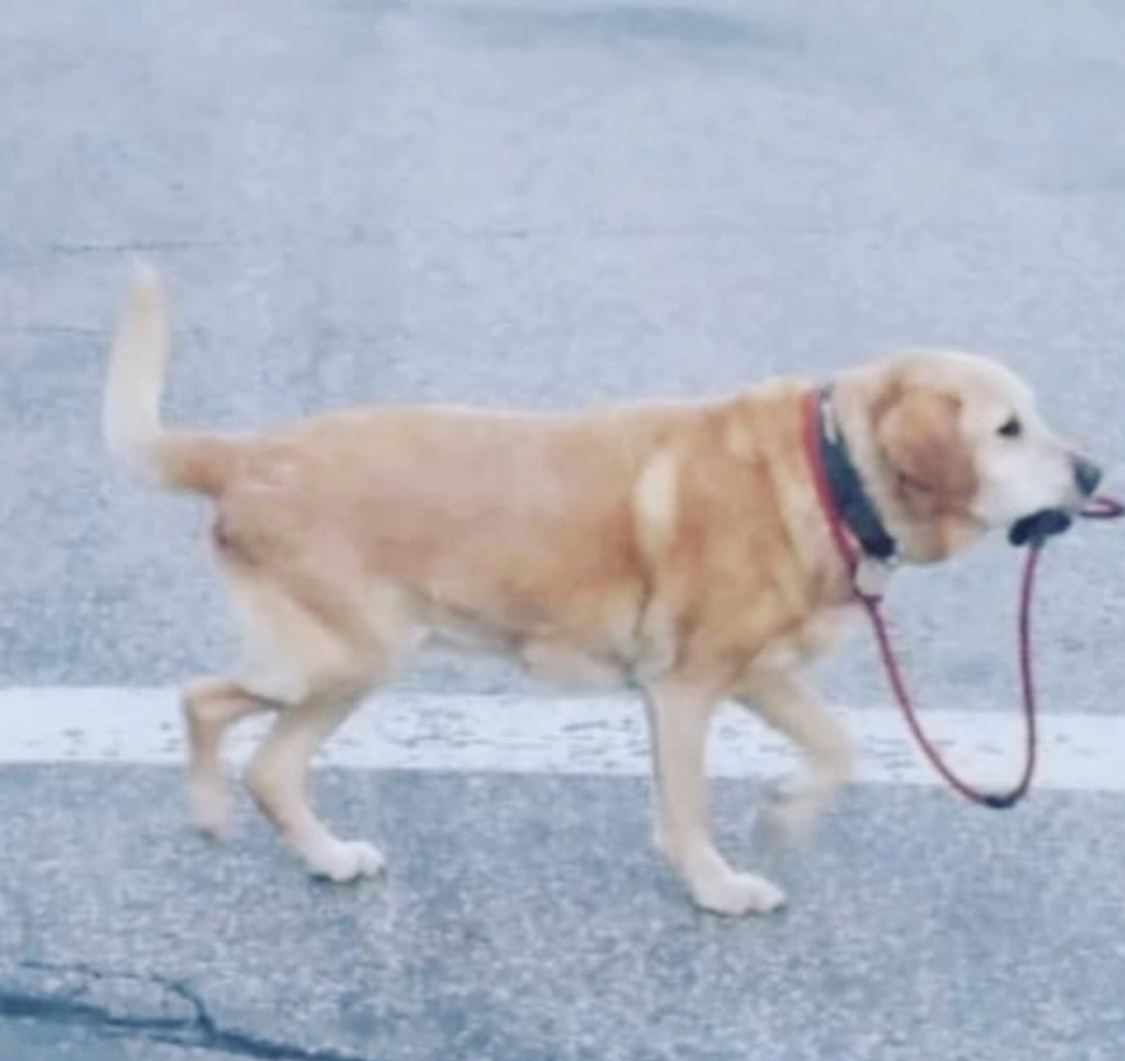dog: (106, 254, 1114, 916)
